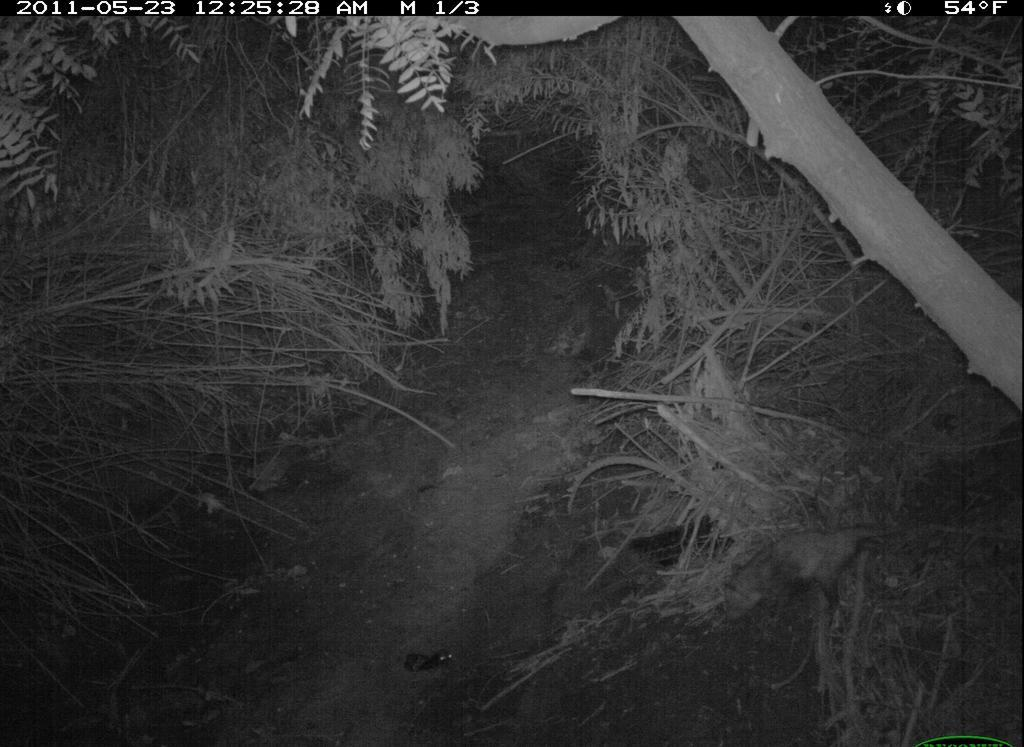opossum: (719, 510, 897, 629)
